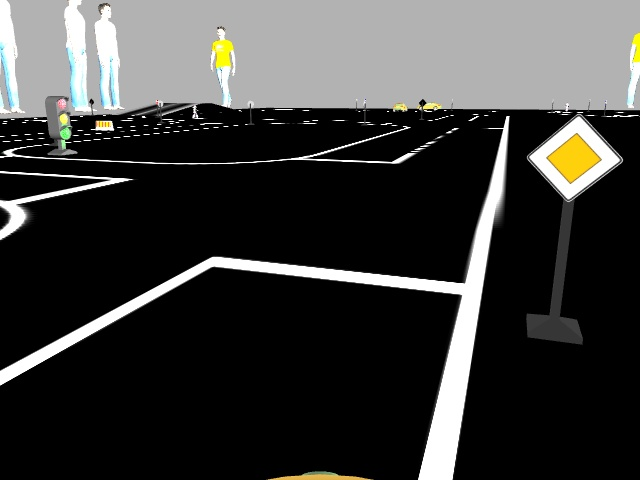ClosedRoadStand: (95, 122, 113, 130)
Priority: (529, 116, 611, 195)
TrafficLight: (46, 97, 71, 141)
